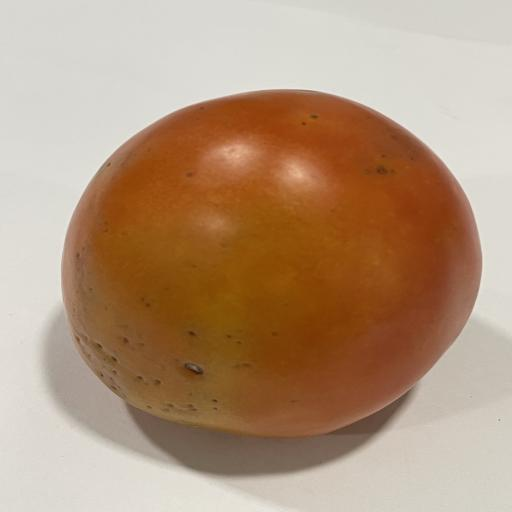ripe: (62, 90, 481, 437)
